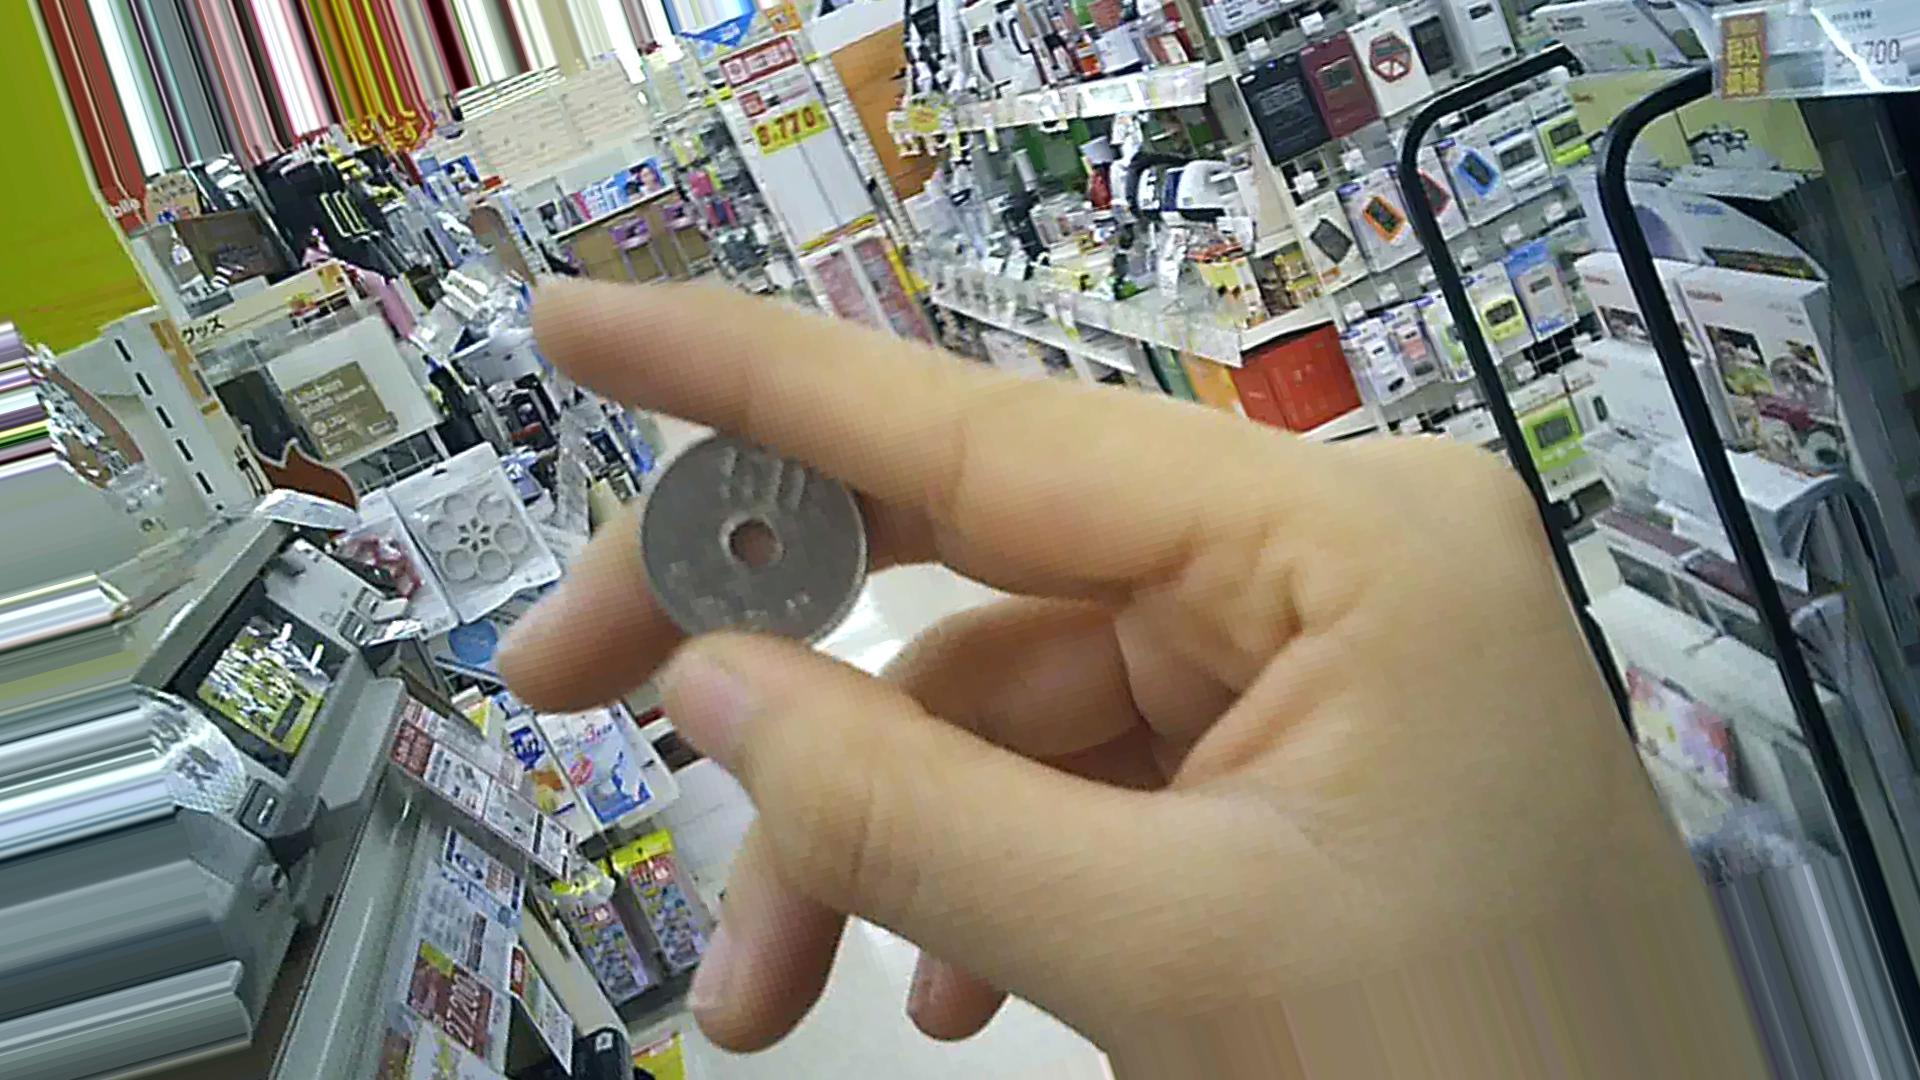50 Yen: (634, 411, 870, 691)
